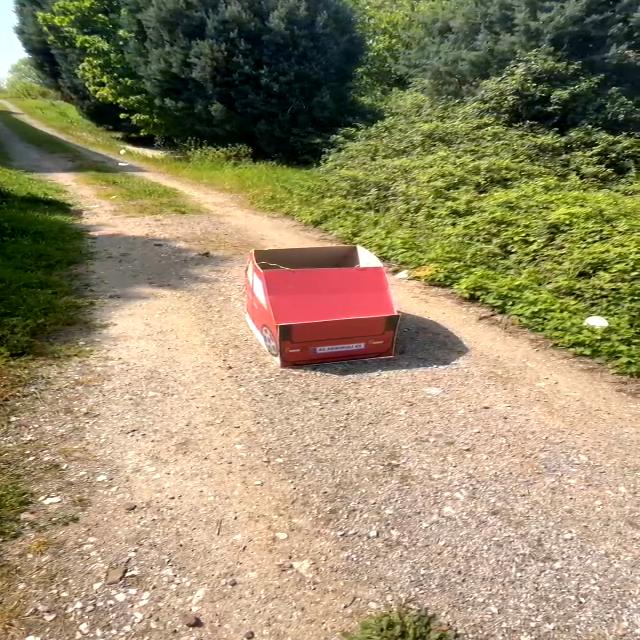red_car: (206, 226, 419, 389)
